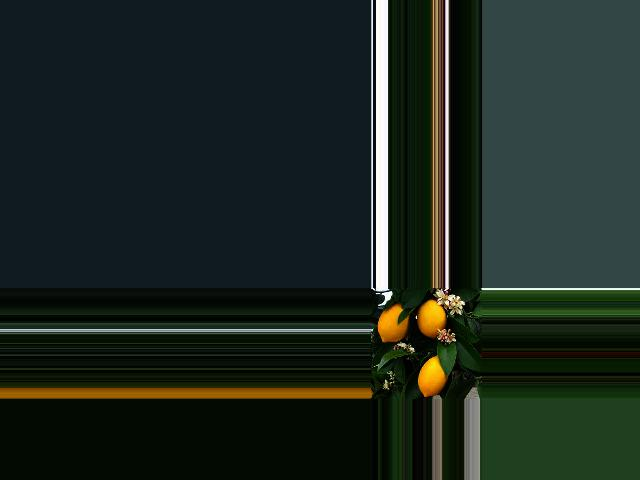lemon: (415, 350, 454, 395)
